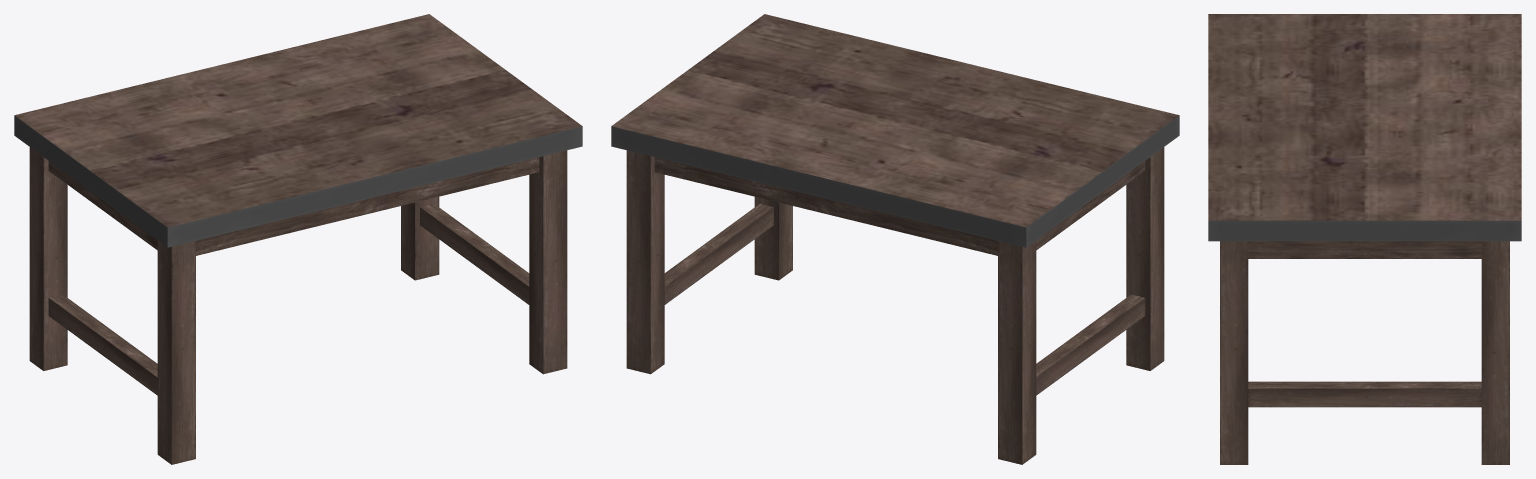
File: gutting_table.glb
3 views of the same model, side by side, from view 1: azimuth 30°, elevation 25°; view 2: azimuth 150°, elevation 25°; view 3: azimuth 270°, elevation 25° (orthographic). The views are drawn at different scales.
Visible parts, largest first — view 1: Props_Table_1.001; view 2: Props_Table_1.001; view 3: Props_Table_1.001.
Part boxes in pixels (box(x1,y1,x2,y2)): Props_Table_1.001: box(14, 14, 582, 464); Props_Table_1.001: box(611, 14, 1179, 464); Props_Table_1.001: box(1208, 14, 1521, 464).
Size of the model in its own units: 1.76 by 0.9876 by 1.13.
Materials: 1 (1 with a texture image).
